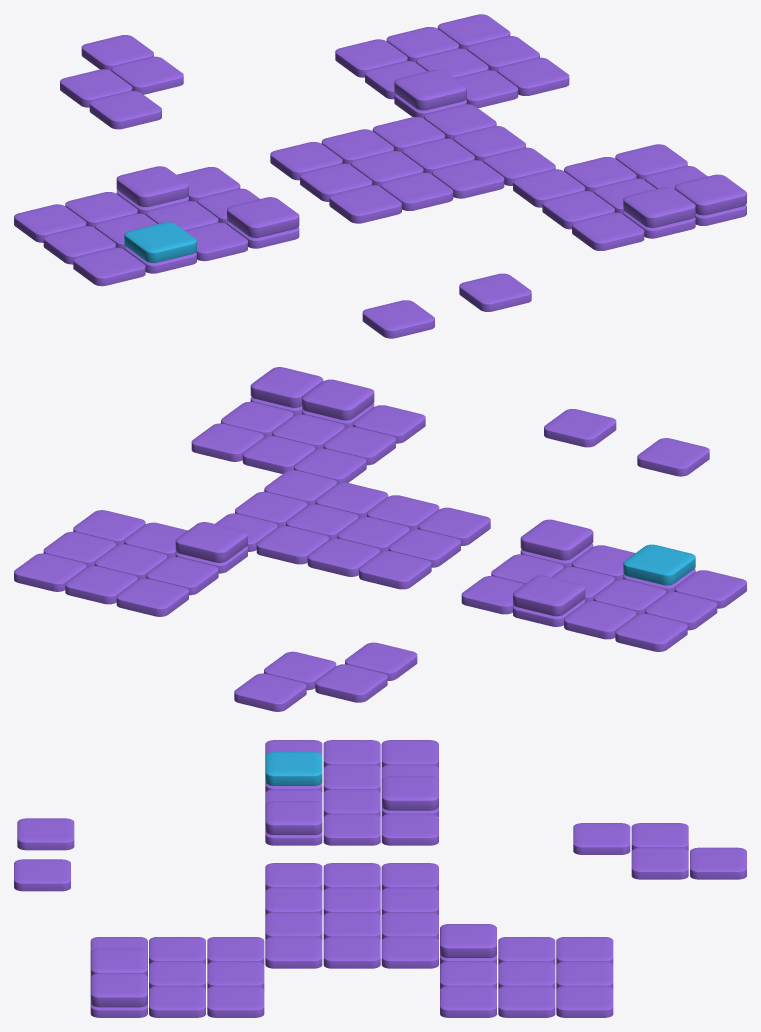
The model's file is Level1.glb.
The picture shows the model from 3 angles, top to bottom: view 1: azimuth 30°, elevation 25°; view 2: azimuth 150°, elevation 25°; view 3: azimuth 270°, elevation 25°; orthographic projection.
Visible parts, largest first — view 1: block.003, block.004, block.001, block, block.002, platform.037, platform.007, platform.040, platform.022, platform.013, platform.015, block.005 (+40 smaller); view 2: block.002, block, block.004, block.001, block.003, platform.037, platform.013, platform.004, platform.009, platform.014, platform.027, platform.005 (+37 smaller); view 3: block.001, block.005, block, block.002, block.003, platform.037, platform.008, platform.013, platform.009, platform.028, platform.007, platform.038 (+38 smaller).
Part boxes in pixels (x1,y1,x2,y2): block.003: (394,69,466,110); block.004: (623,187,695,227); block.001: (116,166,188,206); block: (124,222,196,262); block.002: (227,197,299,237); platform.037: (362,300,434,338); platform.007: (89,91,161,129); platform.040: (329,185,401,223); platform.022: (73,247,145,286); platform.013: (459,273,531,311); platform.015: (572,212,644,250); block.005: (674,174,746,215); block.002: (520,519,593,560); block: (623,544,695,585); block.004: (302,379,374,420); block.001: (513,575,585,616); block.003: (175,522,247,562); platform.037: (637,438,709,476); platform.013: (544,409,616,447); platform.004: (315,664,387,702); platform.009: (234,673,306,711); platform.014: (116,578,188,616); platform.027: (359,551,431,589); platform.005: (615,613,687,651); block.001: (381,776,438,810); block.005: (90,973,147,1007); block: (265,752,322,785); block.002: (265,801,322,834); block.003: (440,924,496,957); platform.037: (17,818,74,850); platform.008: (631,847,688,879); platform.013: (14,859,70,891); platform.009: (690,847,746,879); platform.028: (556,986,613,1017); platform.007: (573,823,630,854); platform.038: (265,937,322,968).
Size of what is drawn, in the model's own units: 27.12 by 1.04 by 31.11.
